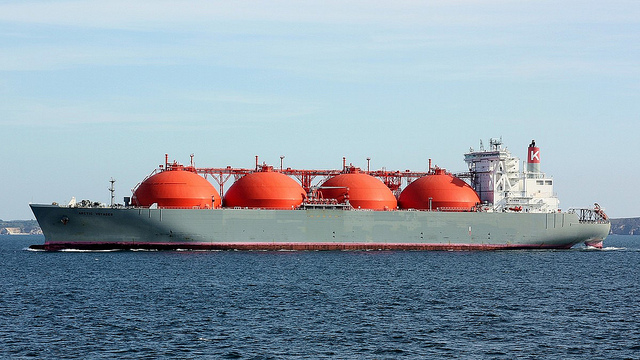LNG_ship: (29, 135, 609, 249)
